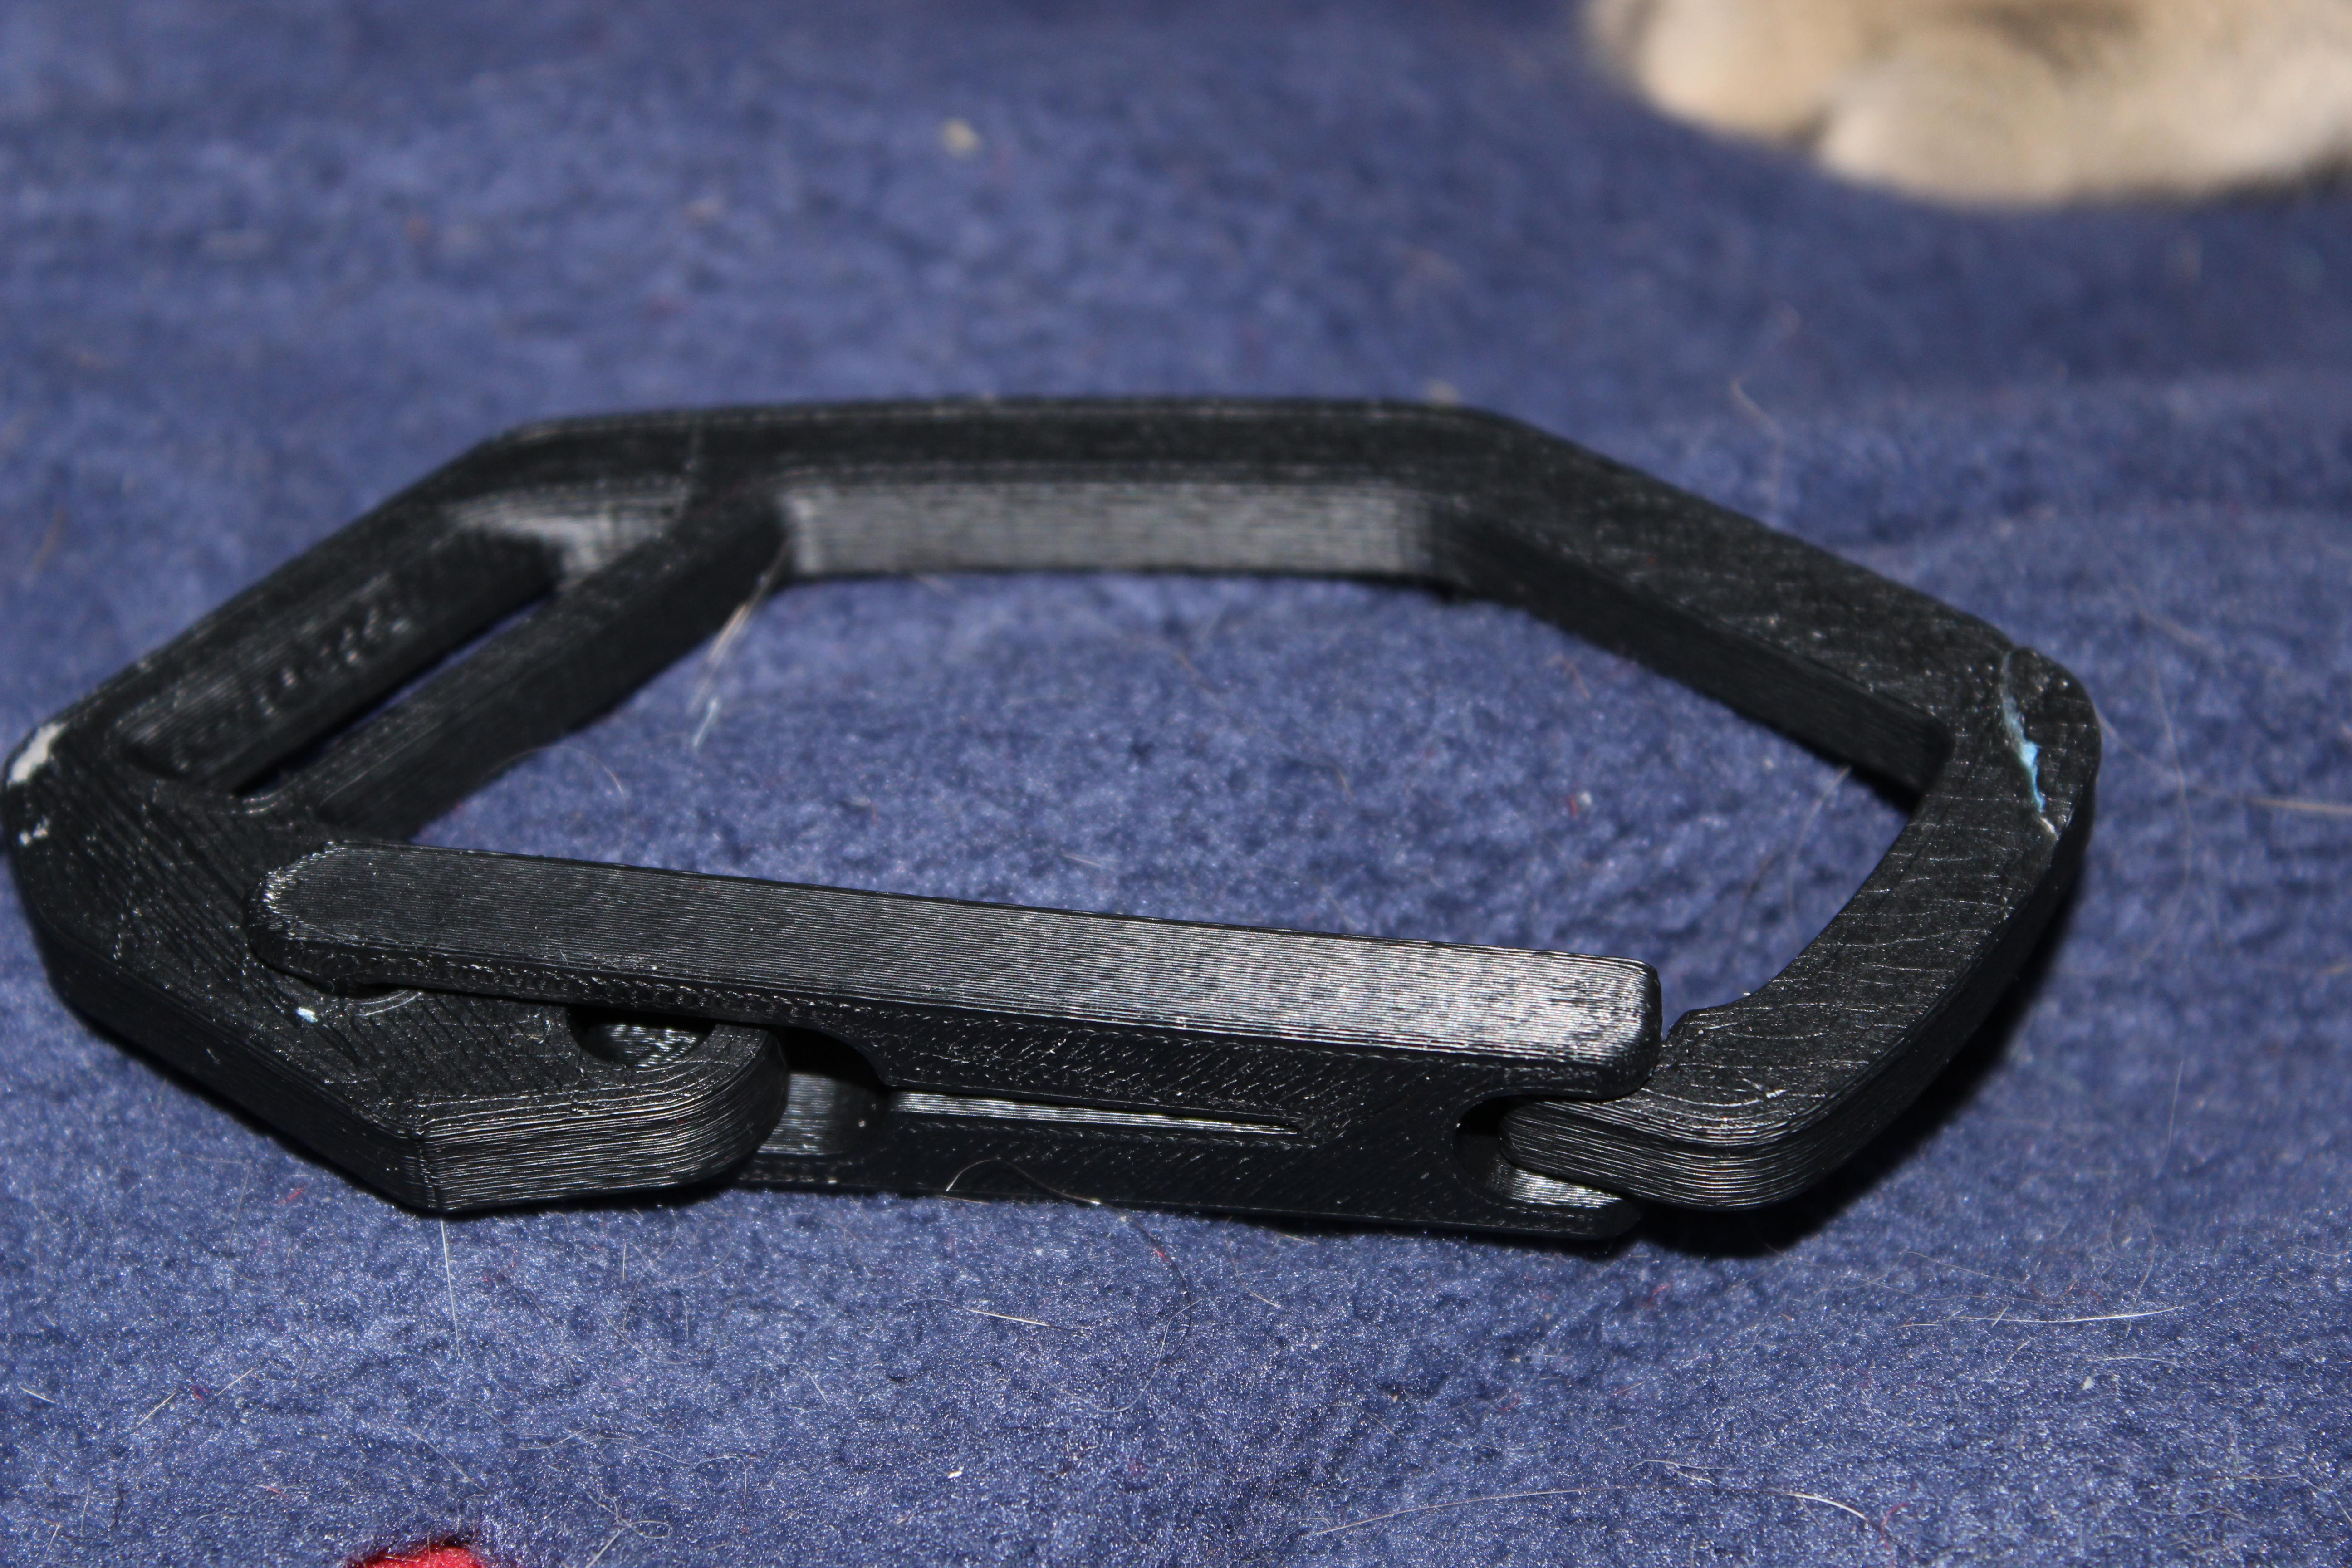carabiner: (3, 350, 2147, 1314)
